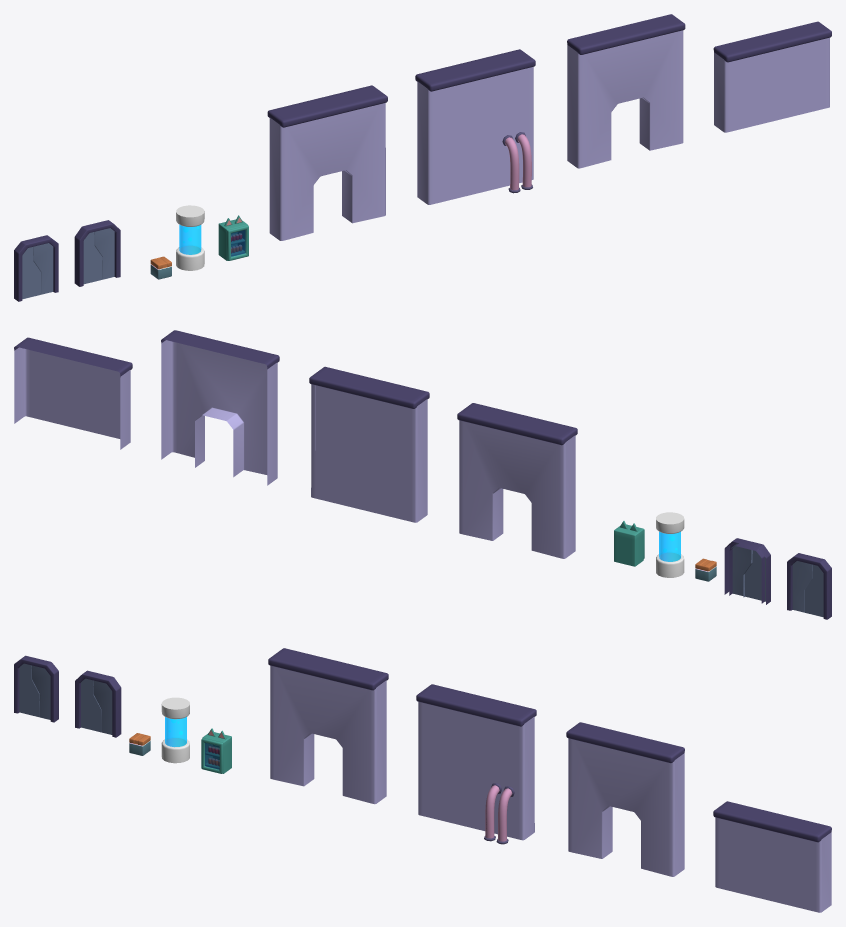
File: assets.glb
The picture shows the model from 3 angles, top to bottom: view 1: azimuth 30°, elevation 25°; view 2: azimuth 150°, elevation 25°; view 3: azimuth 330°, elevation 25°; orthographic projection.
Parts seen in each view (by area): view 1: parede.005, parede, parede.002, parede.003, tubo-grande, frigobar, porta.003, porta, porta.004, porta.002, porta.005, porta.001 (+2 smaller); view 2: parede.005, parede, parede.002, parede.003, tubo-grande, porta.003, frigobar, porta, porta.002, porta.001, porta.005, porta.004; view 3: parede.005, parede, parede.002, parede.003, tubo-grande, frigobar, porta.003, porta, porta.001, porta.004, porta.005, porta.002 (+2 smaller).
Part boxes in pixels (x1,y1,x2,y2): parede.005: (415,49,535,204); parede: (267,85,387,240); parede.002: (567,14,685,168); parede.003: (713,21,831,132); tubo-grande: (176,205,204,270); frigobar: (218,215,248,260); porta.003: (74,220,120,286); porta: (14,235,58,301); porta.004: (83,232,102,284); porta.002: (33,243,53,294); porta.005: (94,228,114,279); porta.001: (22,247,40,299); parede.005: (309,366,429,522); parede: (457,403,577,558); parede.002: (161,330,279,485); parede.003: (14,337,132,449); tubo-grande: (656,512,684,577); porta.003: (724,538,770,604); frigobar: (614,521,644,566); porta: (787,553,831,619); porta.002: (792,561,812,612); porta.001: (805,564,823,617); porta.005: (731,543,752,596); porta.004: (743,549,765,601); parede.005: (416,684,536,840); parede: (268,648,388,804); parede.002: (566,722,684,876); parede.003: (713,801,831,912); tubo-grande: (161,697,189,763); frigobar: (201,728,231,773); porta.003: (75,670,121,737); porta: (14,655,58,722); porta.001: (19,663,39,717); porta.004: (81,678,101,732); porta.005: (93,680,112,734); porta.002: (31,665,50,719).
Size of the model in its own units: 46.66 by 6.68 by 2.39.
